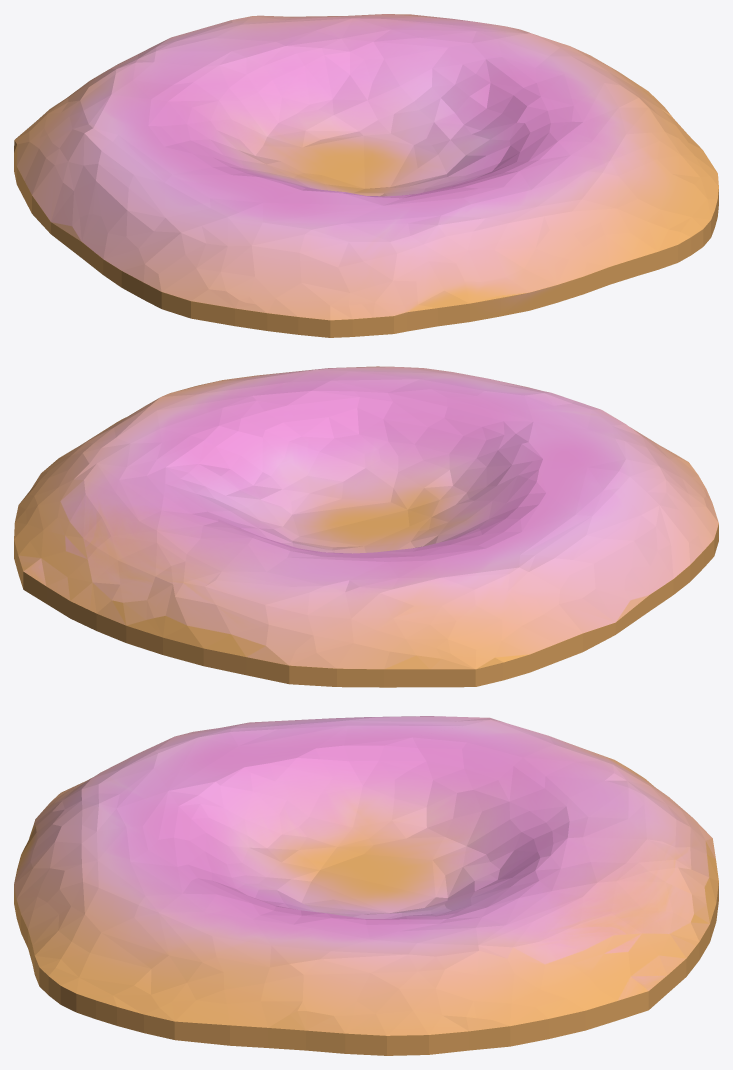
File: donutisland.glb
The picture shows the model from 3 angles, top to bottom: view 1: azimuth 30°, elevation 25°; view 2: azimuth 150°, elevation 25°; view 3: azimuth 270°, elevation 25°; orthographic projection. The views are drawn at different scales.
Parts seen in each view (by area): view 1: Plane; view 2: Plane; view 3: Plane.
Boxes of the visible parts, x1,y1,x2,y2 form: Plane: [14, 14, 718, 337]; Plane: [14, 366, 718, 687]; Plane: [14, 716, 718, 1055].
Bounding box in the file's own units: 150 × 17.35 × 149.
Materials: 1 (1 with a texture image).
